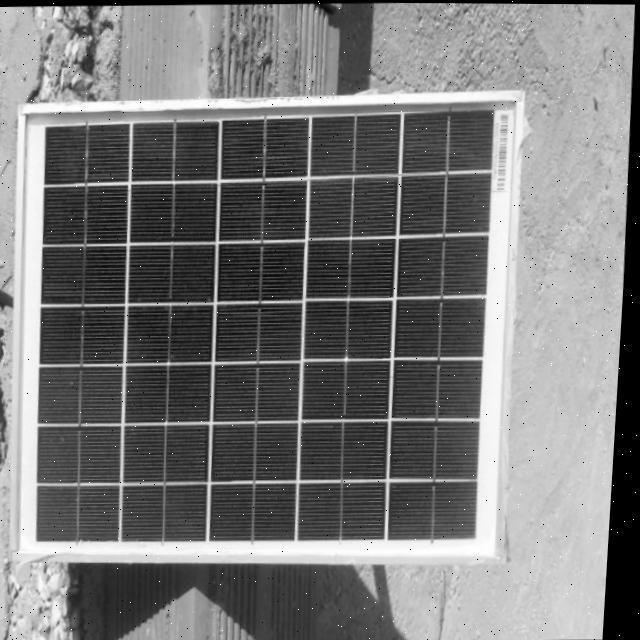Normal Solar Panel: (0, 85, 532, 567)
